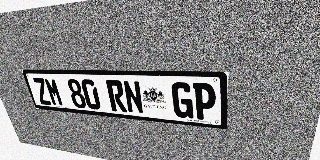0: (80, 79, 101, 110)
8: (66, 79, 87, 109)
G: (171, 82, 193, 119)
M: (43, 78, 64, 106)
N: (122, 80, 144, 114)
P: (193, 83, 216, 121)
R: (105, 80, 127, 112)
Z: (32, 78, 52, 105)
